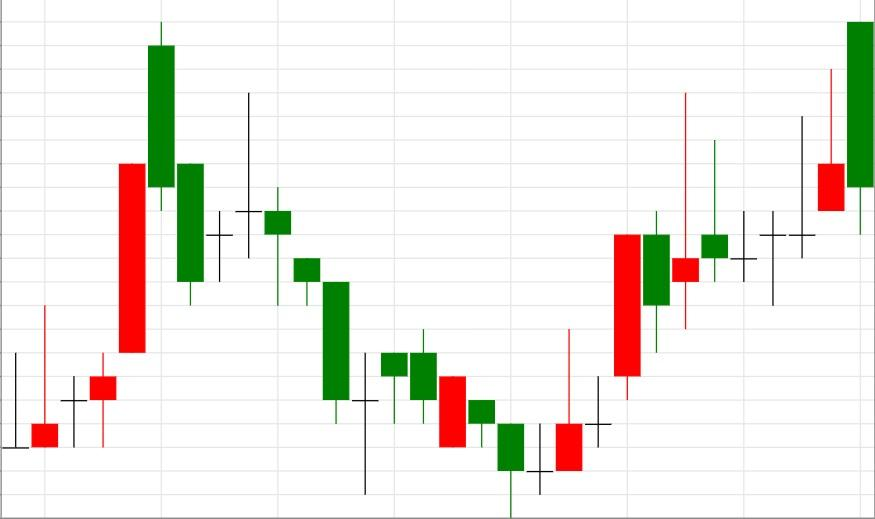morning_star_rise: (235, 92, 582, 519)
shooting_star_fall: (497, 68, 847, 518)
